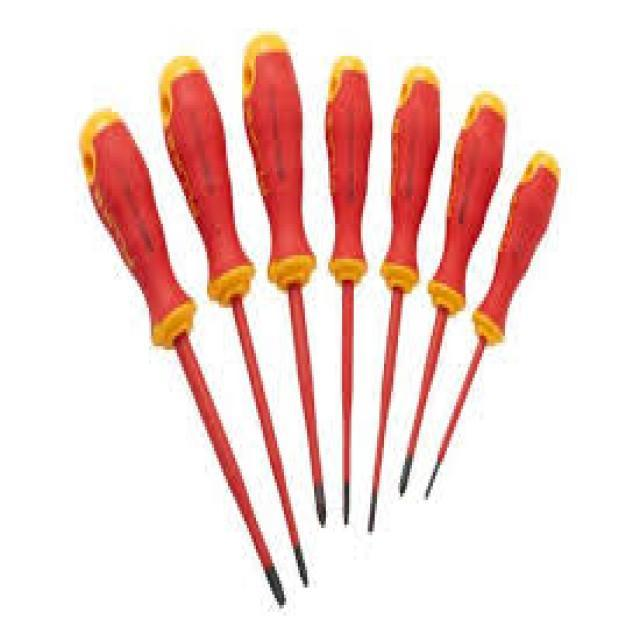screwdriver: (77, 107, 291, 610), (153, 50, 312, 592), (422, 146, 562, 504), (396, 89, 508, 502), (240, 31, 328, 528), (366, 64, 444, 540), (320, 52, 376, 532)
